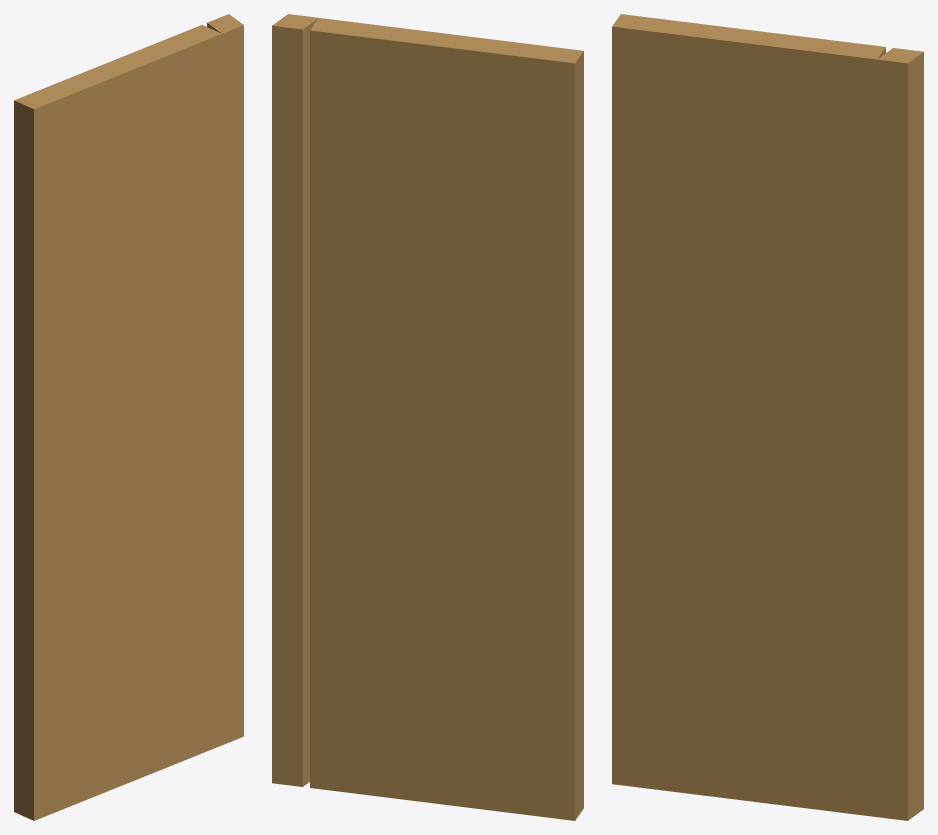
3 renders of one model, left to right at view 1: azimuth 30°, elevation 25°; view 2: azimuth 150°, elevation 25°; view 3: azimuth 330°, elevation 25°, orthographic. The views are drawn at different scales.
Visible parts, largest first — view 1: FF-W044; view 2: FF-W044; view 3: FF-W044.
Boxes of the visible parts, x1=… form: FF-W044: x1=14, y1=14, x2=243, y2=820; FF-W044: x1=272, y1=14, x2=583, y2=820; FF-W044: x1=612, y1=14, x2=923, y2=820.
Bounding box in the file's own units: 0.8888 × 2.42 × 0.3022.
